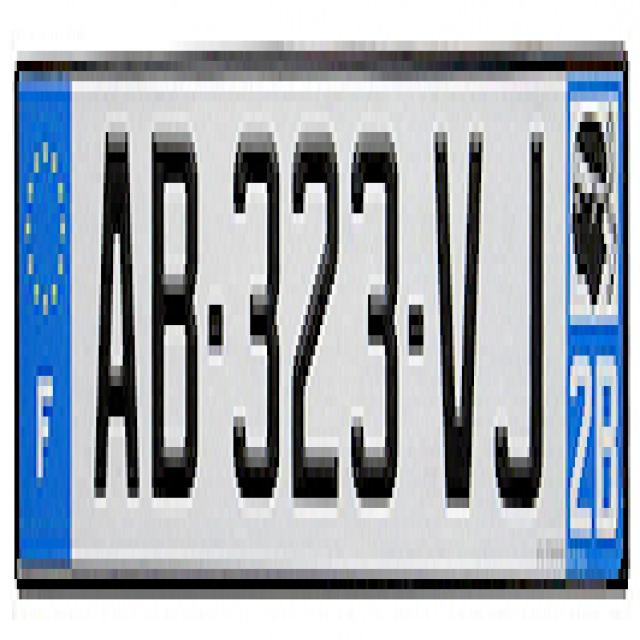EU: (15, 70, 631, 584)
France: (16, 66, 73, 591)
